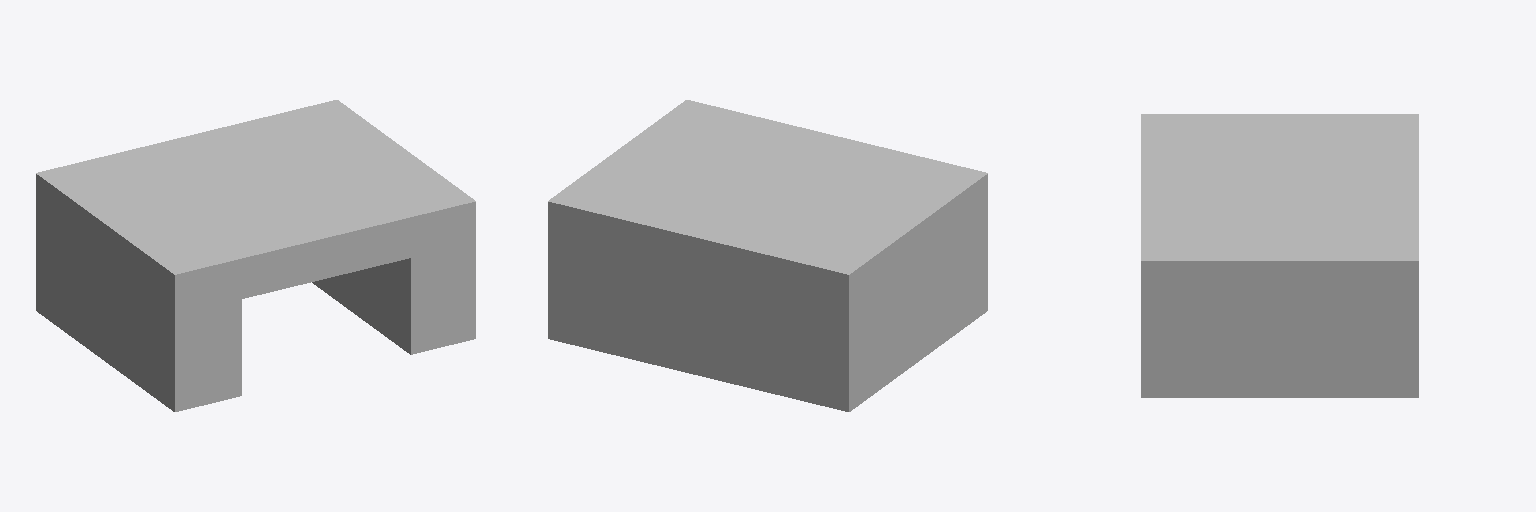
The model's file is gate.obj.
3 renders of one model, left to right at view 1: azimuth 30°, elevation 25°; view 2: azimuth 150°, elevation 25°; view 3: azimuth 270°, elevation 25°, orthographic.
Size of the model in its own units: 2.87 by 1.25 by 2.29.